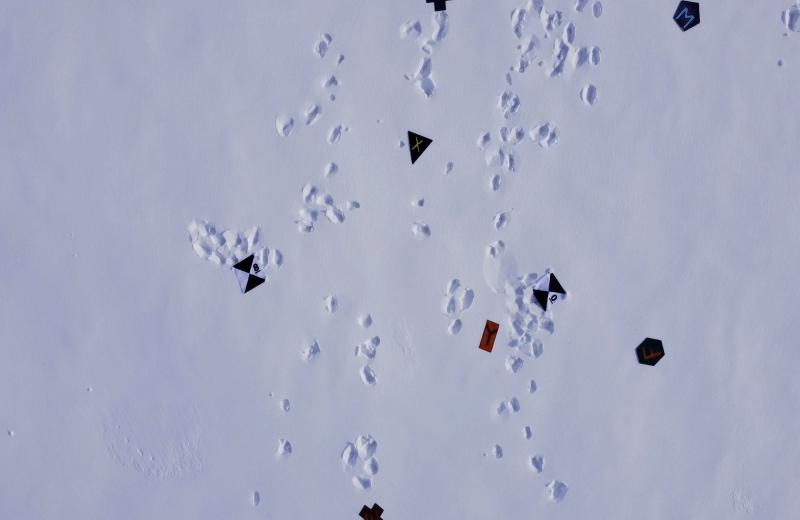Cross: (354, 502, 388, 520), (418, 0, 458, 15)
Hexagon: (629, 334, 668, 371)
Pentagon: (670, 0, 703, 33)
Rectangle: (477, 315, 502, 359)
Triangle: (403, 125, 436, 168)
